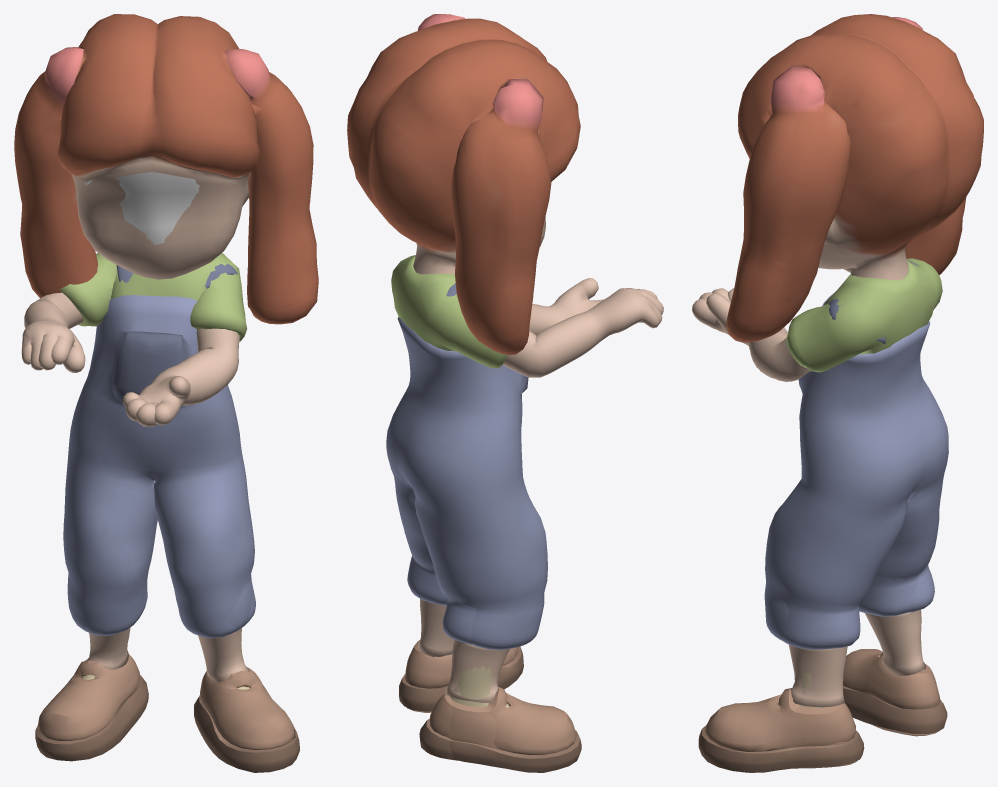
3 renders of one model, left to right at view 1: azimuth 30°, elevation 25°; view 2: azimuth 150°, elevation 25°; view 3: azimuth 270°, elevation 25°, orthographic.
Parts seen in each view (by area): view 1: Arms.088; view 2: Arms.088; view 3: Arms.088.
Boxes of the visible parts, x1=… form: Arms.088: x1=14, y1=14, x2=318, y2=772; Arms.088: x1=347, y1=14, x2=663, y2=772; Arms.088: x1=692, y1=14, x2=983, y2=772.
Bounding box in the file's own units: 67.35 × 163 × 60.62.
